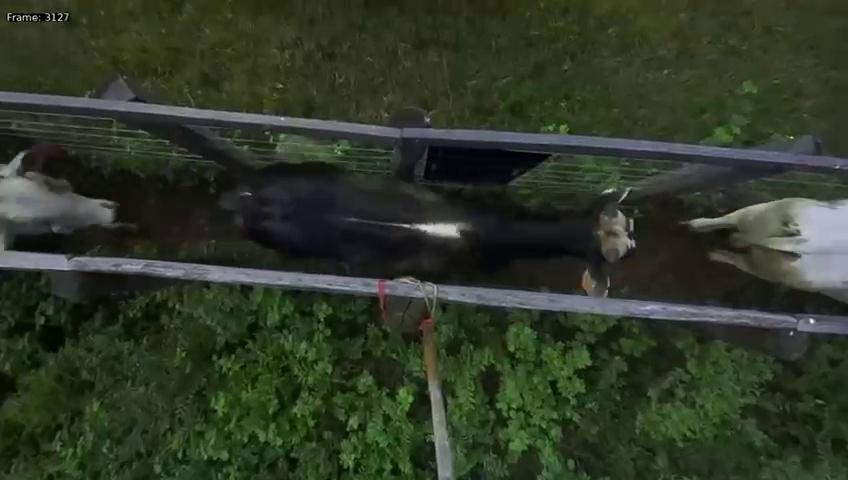cattle: (205, 149, 639, 305)
